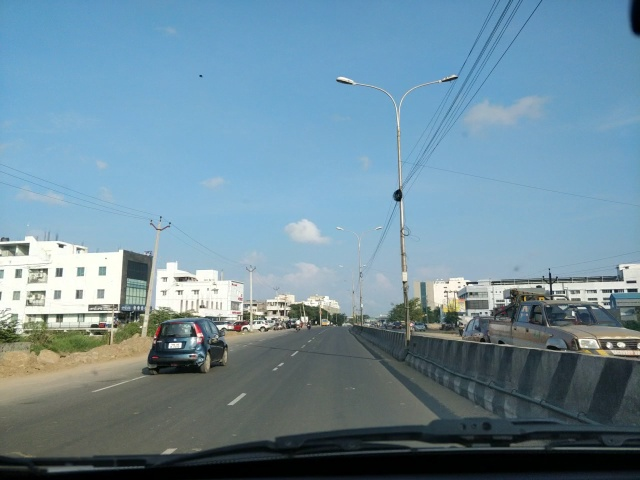car: (485, 300, 639, 392), (144, 314, 230, 376), (458, 315, 494, 380), (242, 319, 270, 332), (412, 321, 427, 333), (320, 319, 330, 327)
motorbike: (292, 315, 304, 334)
